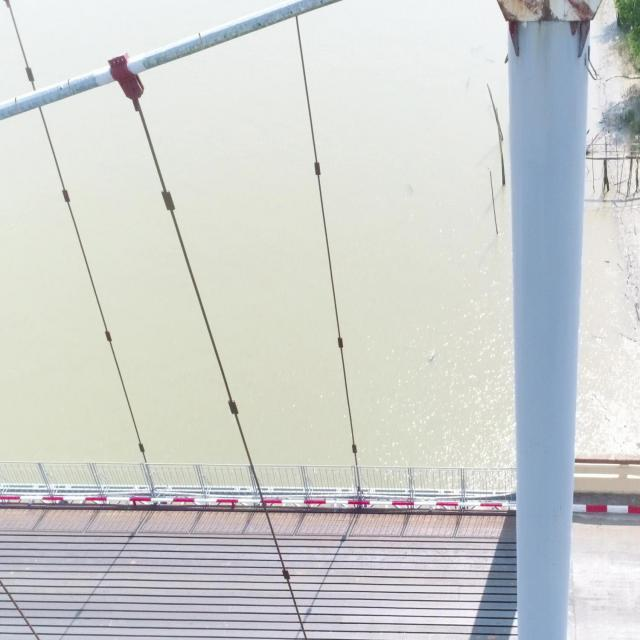crack: (67, 78, 74, 95), (198, 32, 204, 49), (14, 97, 19, 114)
